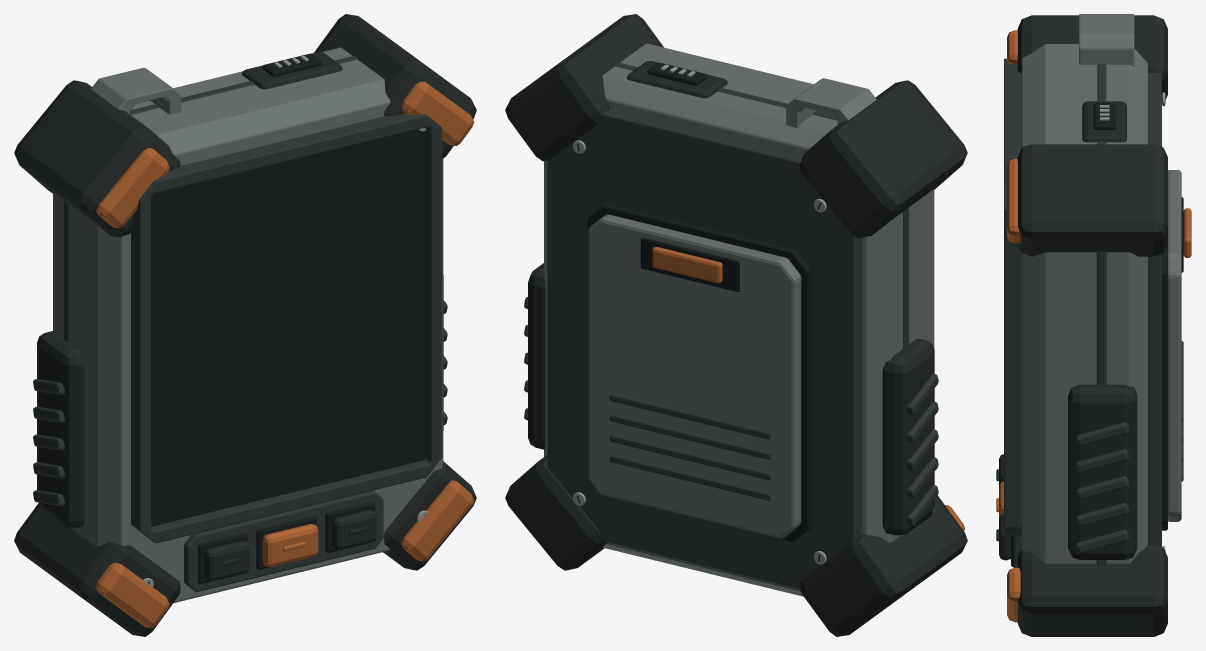
File: field_terminal.glb
3 views of the same model, side by side, from view 1: azimuth 30°, elevation 25°; view 2: azimuth 150°, elevation 25°; view 3: azimuth 270°, elevation 25° (orthographic). The views are drawn at different scales.
Visible parts, largest first — view 1: Housing; view 2: Housing; view 3: Housing.
Part boxes in pixels (left/top/right/bottom): Housing: left=14, top=14, right=476, bottom=636; Housing: left=505, top=14, right=967, bottom=636; Housing: left=996, top=14, right=1191, bottom=636.
Size of the model in its own units: 0.2235 by 0.2789 by 0.0988.
